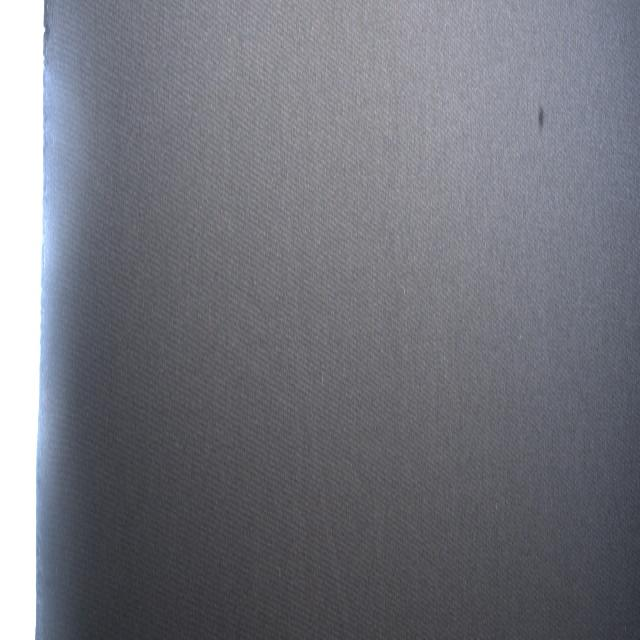crease: (291, 387, 351, 640)
